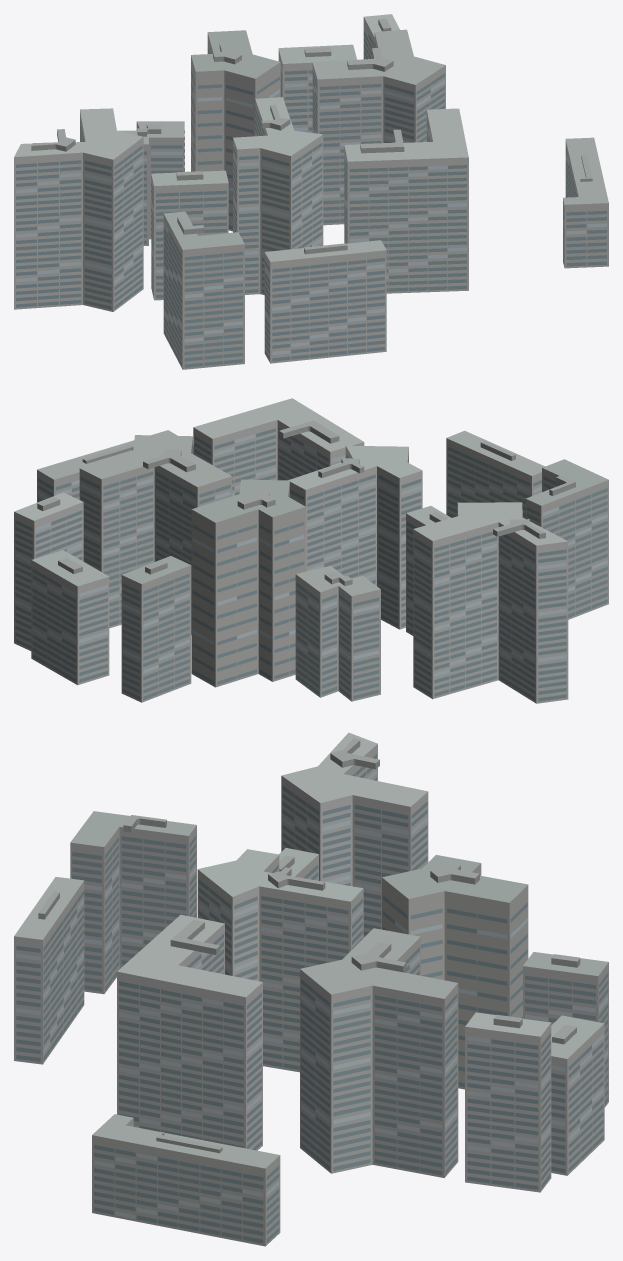
File: apt-a13470503.glb
The picture shows the model from 3 angles, top to bottom: view 1: azimuth 30°, elevation 25°; view 2: azimuth 150°, elevation 25°; view 3: azimuth 270°, elevation 25°; orthographic projection. The views are drawn at different scales.
Visible parts, largest first — view 1: apt-a13470503; view 2: apt-a13470503; view 3: apt-a13470503.
Part boxes in pixels (box(x1,y1,x2,y2)): apt-a13470503: box(14, 14, 608, 369); apt-a13470503: box(14, 398, 608, 703); apt-a13470503: box(14, 732, 608, 1246).
Bounding box in the file's own units: 275 × 78.65 × 211.
